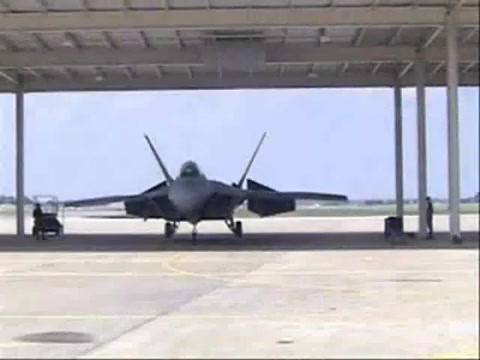aeroplane: (60, 132, 350, 247)
